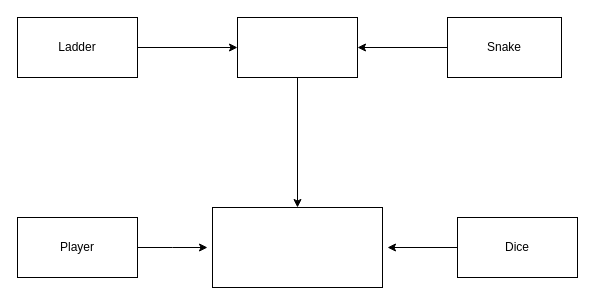
Some shapes in this 595 by 305 pixel diagram are drawn without their labels. The box of each missing label's shape, as (x1, y1, x2, y2) in pixels:
Board: (236, 16, 358, 78)
SnakeAndLadderGame: (212, 206, 382, 288)
